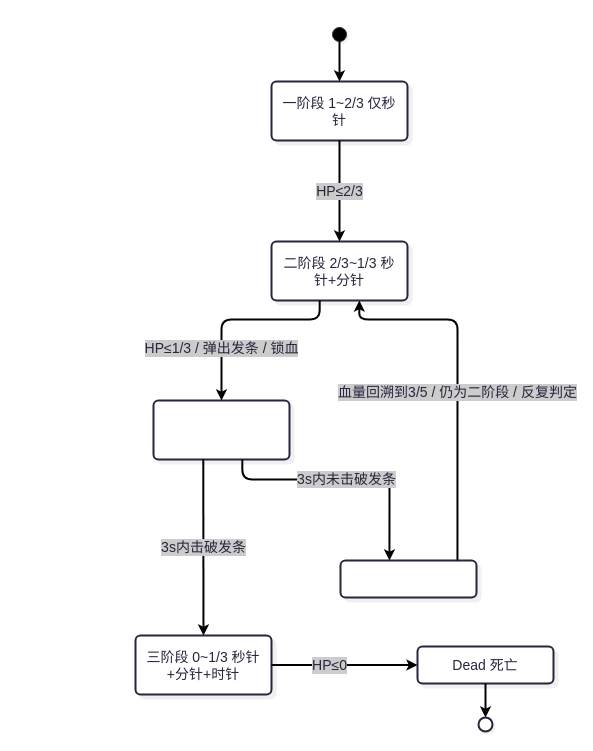
Image size: 593x751. Some labels were removed from this diagram. The centre of each missing label's shape, as x and y in pixels:
Rewind 时间回溯: [410,580]
Stun 眩晕 弹出发条 锁血: [223,431]
